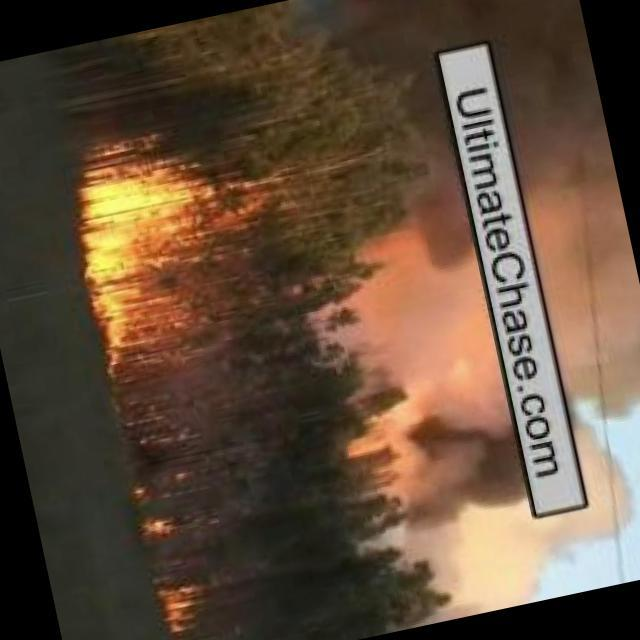Fire: (65, 157, 239, 369), (156, 577, 210, 638), (140, 510, 184, 540)
